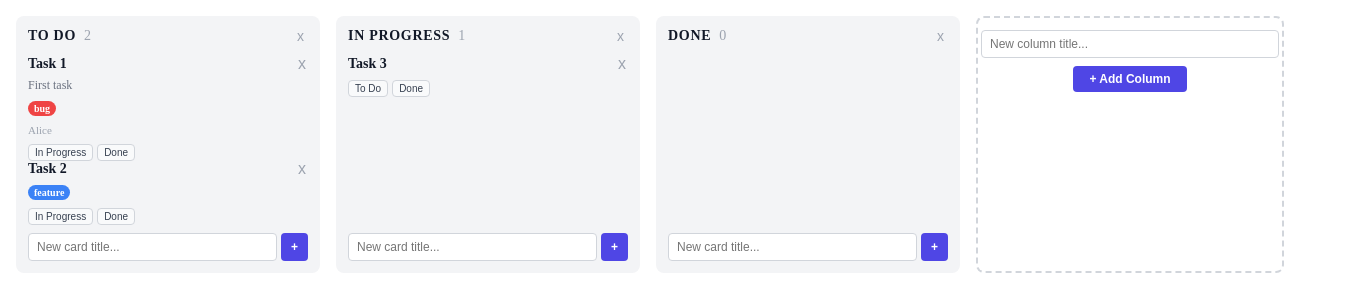
Test: KanbanBoard › adds a new column
In the field labelled "New column title": (1130, 44) x1=981 y1=30 x2=1279 y2=58, type "Review"
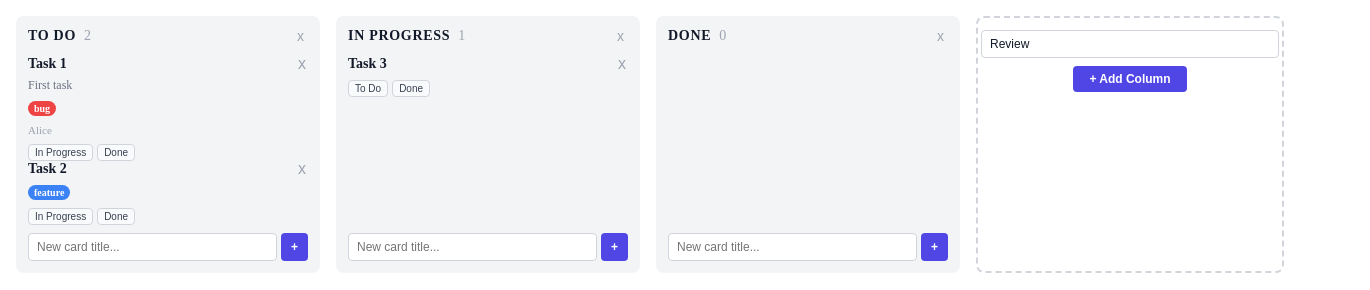
Click the button with aria-label "Add new column": (1130, 79) x1=1073 y1=66 x2=1187 y2=92
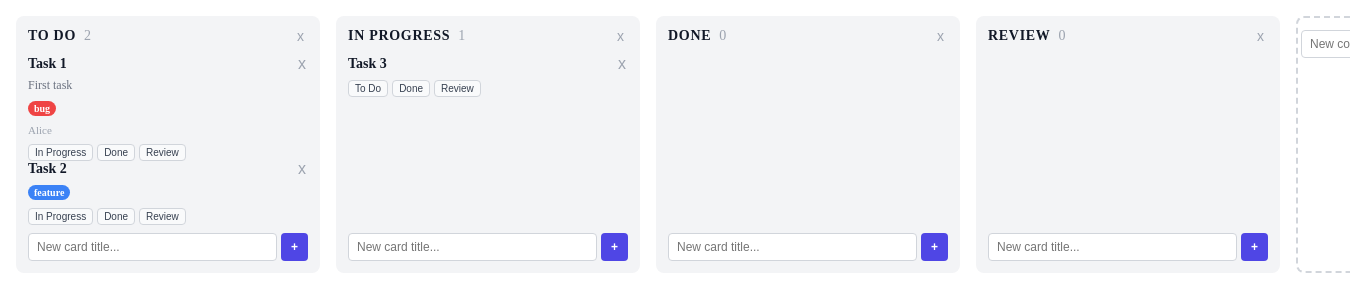
Expected: the list named "Column: Review" is shown, x1=976 y1=16 x2=1280 y2=273
